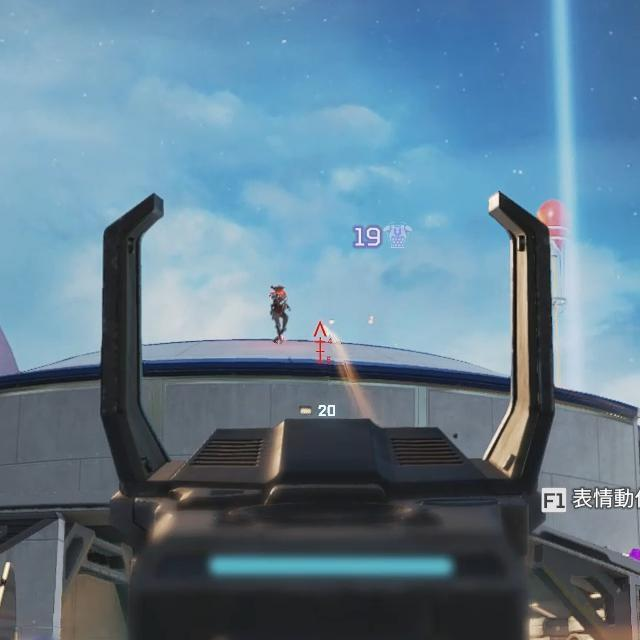avatar: (267, 283, 291, 343)
